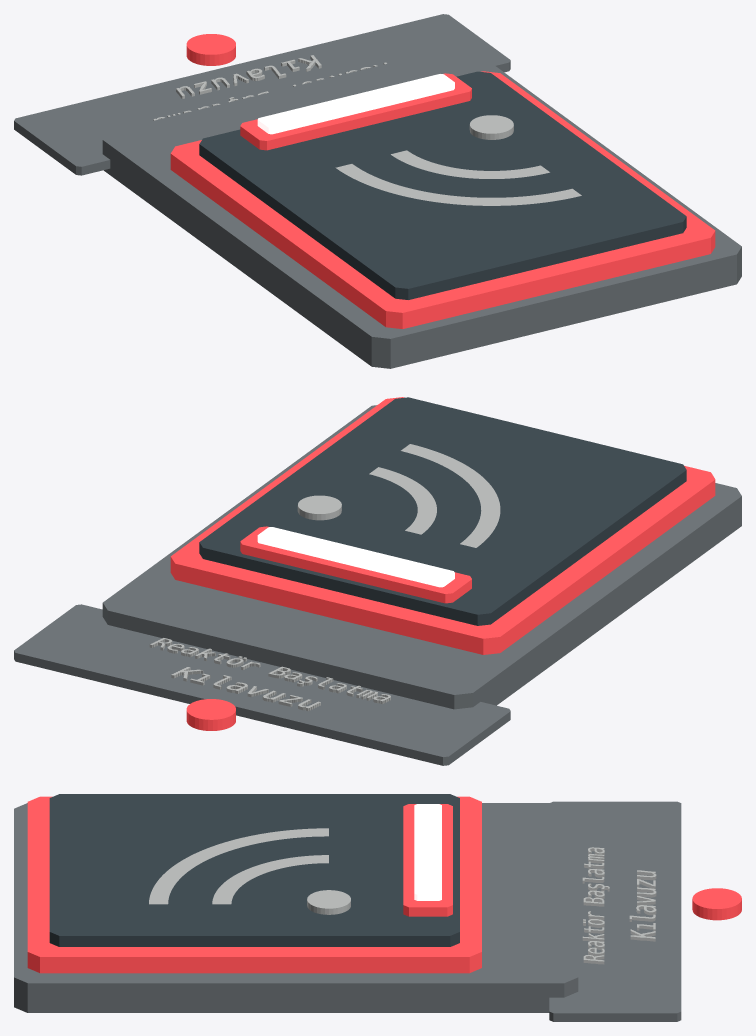
The model's file is REAKTOR_BASLATMA_KILAVUZU_09_ADAY.glb.
3 renders of one model, top to bottom at view 1: azimuth 30°, elevation 25°; view 2: azimuth 150°, elevation 25°; view 3: azimuth 270°, elevation 25°, orthographic.
Parts seen in each view (by area): view 1: Guide_black_face, Guide_panel_mount, Guide_red_frame, Guide_caption_plate, Guide_status_slot_frame, Guide_status_indicator, Guide_signal_outer, Guide_reference_caption, Guide_signal_inner, Guide_red_status_led, Guide_signal_dot; view 2: Guide_black_face, Guide_panel_mount, Guide_caption_plate, Guide_red_frame, Guide_status_slot_frame, Guide_status_indicator, Guide_reference_caption, Guide_signal_outer, Guide_signal_inner, Guide_red_status_led, Guide_signal_dot; view 3: Guide_black_face, Guide_panel_mount, Guide_caption_plate, Guide_red_frame, Guide_reference_caption, Guide_status_slot_frame, Guide_status_indicator, Guide_signal_outer, Guide_signal_inner, Guide_red_status_led, Guide_signal_dot.
Boxes of the visible parts, x1,y1,x2,y2 form: Guide_black_face: (199, 71, 686, 299); Guide_panel_mount: (102, 47, 741, 368); Guide_red_frame: (170, 71, 715, 329); Guide_caption_plate: (14, 14, 510, 175); Guide_status_slot_frame: (240, 73, 471, 150); Guide_status_indicator: (257, 74, 454, 134); Guide_signal_outer: (335, 164, 581, 205); Guide_reference_caption: (153, 55, 386, 120); Guide_signal_inner: (391, 150, 549, 178); Guide_red_status_led: (186, 34, 235, 65); Guide_signal_dot: (469, 115, 513, 139); Guide_black_face: (199, 397, 686, 625); Guide_panel_mount: (102, 405, 741, 709); Guide_caption_plate: (14, 604, 510, 765); Guide_red_frame: (170, 397, 715, 654); Guide_status_slot_frame: (240, 526, 471, 603); Guide_status_indicator: (257, 527, 454, 587); Guide_reference_caption: (149, 638, 390, 711); Guide_signal_outer: (401, 444, 500, 547); Guide_signal_inner: (369, 467, 436, 534); Guide_red_status_led: (186, 699, 235, 730); Guide_signal_dot: (297, 495, 341, 520); Guide_black_face: (49, 794, 459, 946); Guide_panel_mount: (14, 803, 578, 1012); Guide_caption_plate: (549, 801, 681, 1021); Guide_red_frame: (27, 796, 481, 973); Guide_reference_caption: (582, 847, 656, 964); Guide_status_slot_frame: (403, 804, 452, 916); Guide_status_indicator: (414, 804, 441, 900); Guide_signal_outer: (149, 828, 328, 904); Guide_signal_inner: (212, 855, 328, 904); Guide_red_status_led: (692, 888, 741, 920); Guide_signal_dot: (307, 890, 350, 914).
Size of the model in its own units: 1.82 by 0.295 by 2.64.
